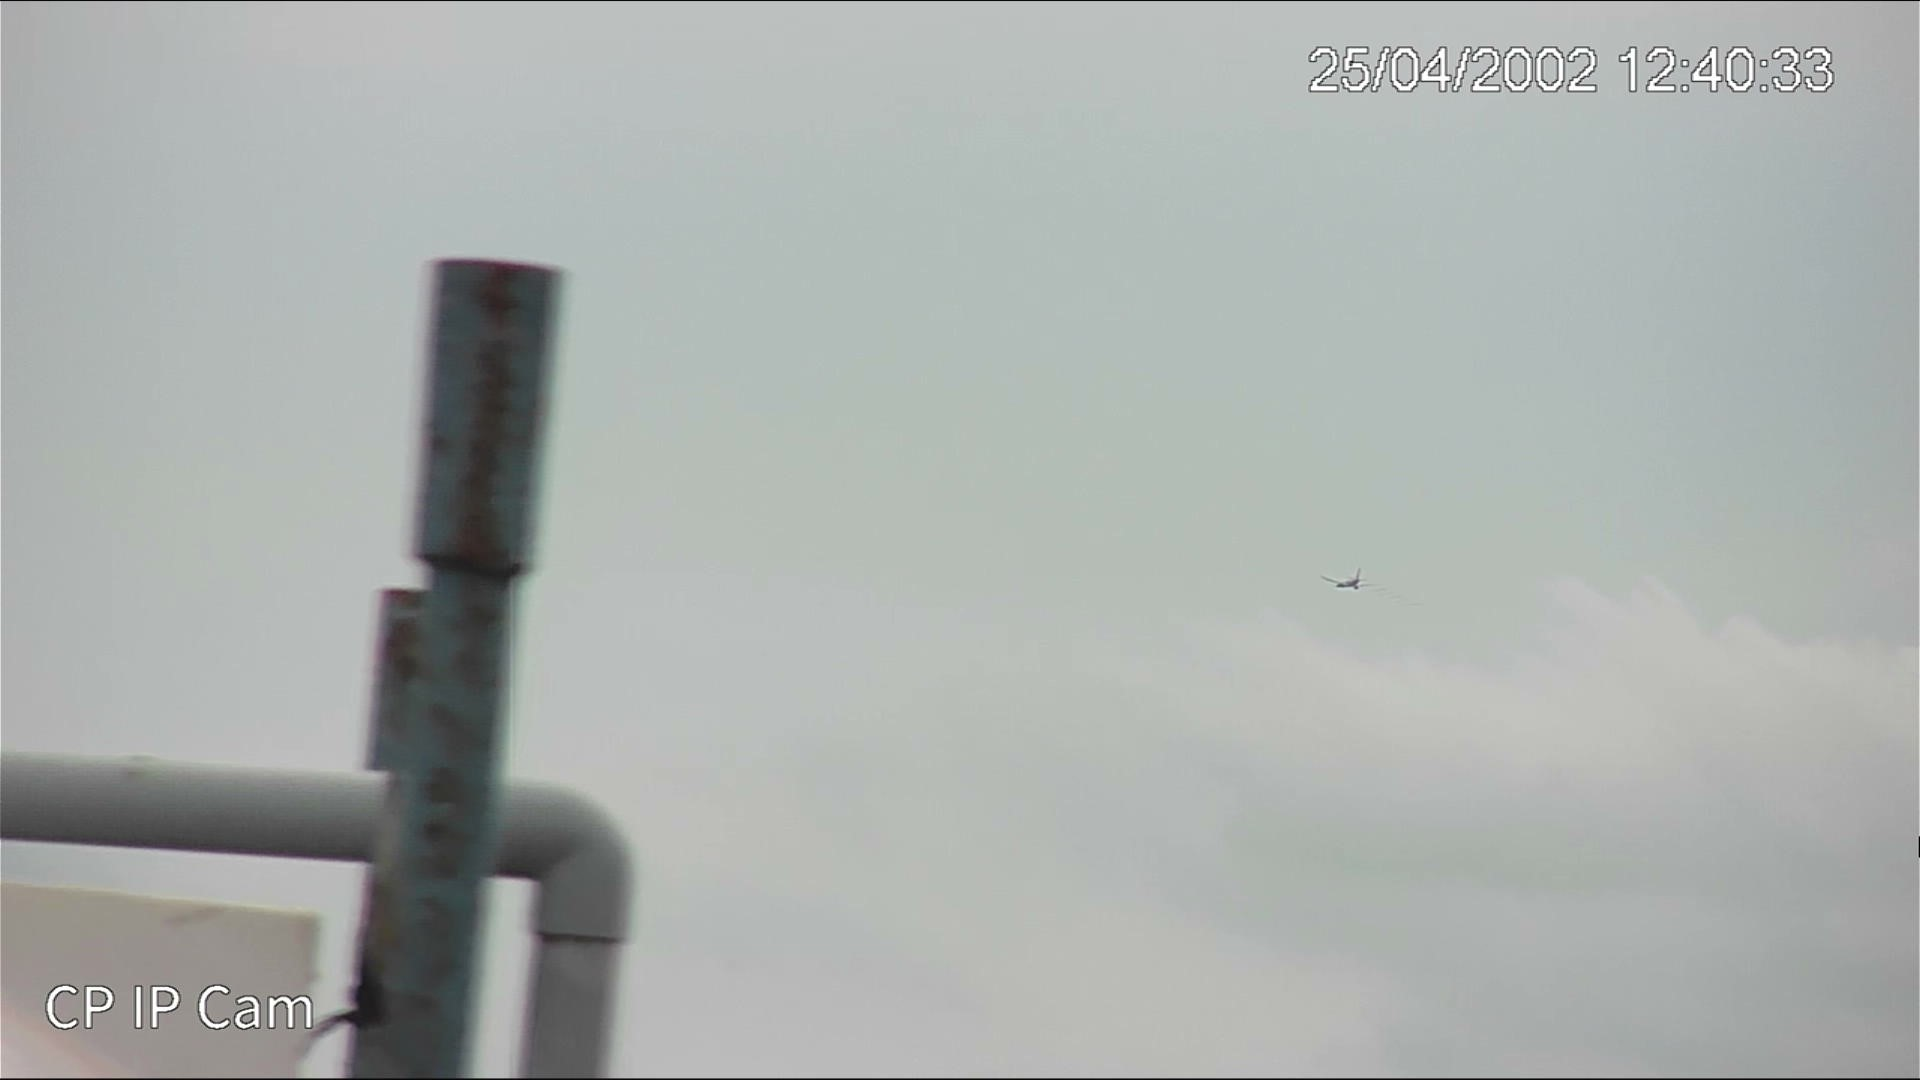SU_30: (1323, 571, 1370, 589)
